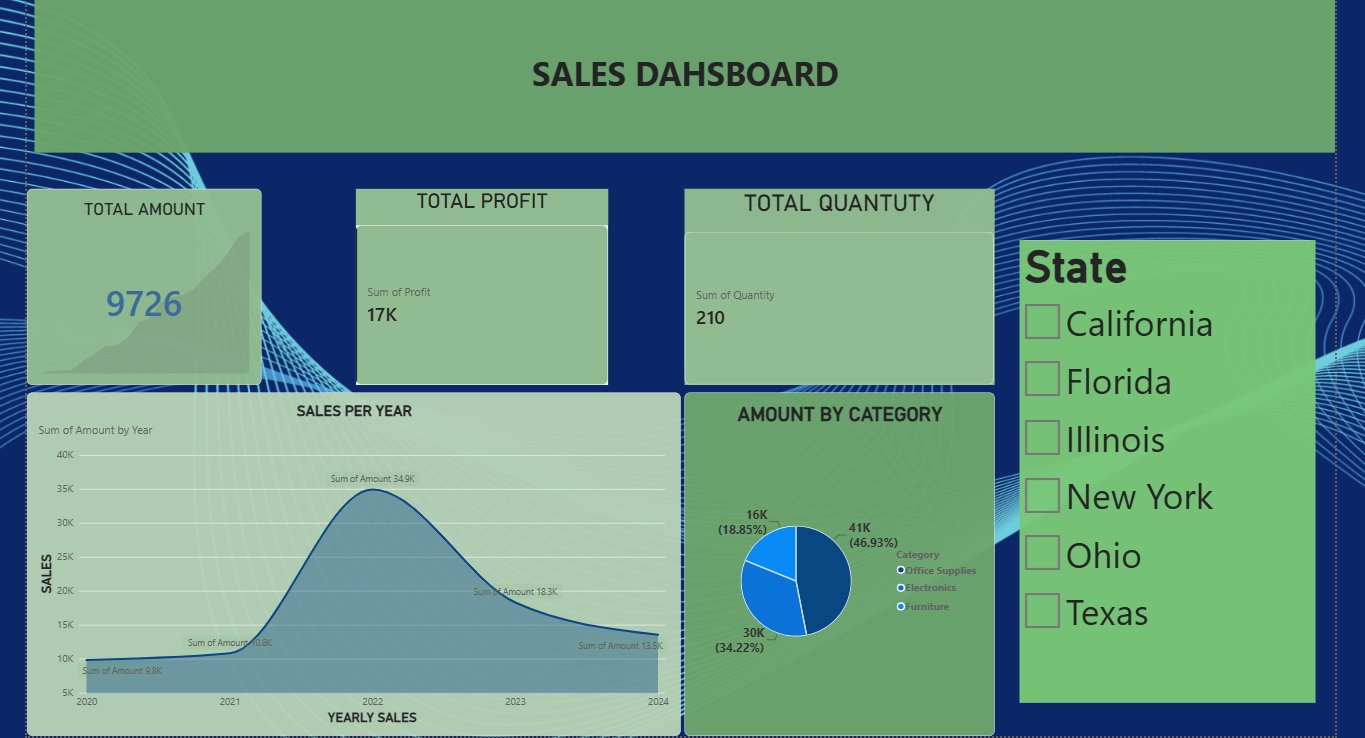

What the dashboard file says about the page in this screenshot:
{"tool":"powerbi","page":{"name":"Page 1","canvas":[1920,1080],"ordinal":0},"visuals":[{"type":"textbox","box":[10.3,0,1910.1,224.4],"z":0},{"type":"kpi","title":"TOTAL AMOUNT","fields":{"Indicator":["Sum(Sales Dataset.Amount)"],"TrendLine":["Sales Dataset.Amount"]},"box":[0,277.9,343.7,288.2],"z":1000},{"type":"cardVisual","title":"TOTAL PROFIT","fields":{"Data":["Sum(Sales Dataset.Profit)"]},"box":[481.6,277.9,370.5,288.2],"z":2000},{"type":"cardVisual","title":"TOTAL QUANTUTY","fields":{"Data":["Sum(Sales Dataset.Quantity)"]},"box":[965.4,277.9,454.9,288.2],"z":3000},{"type":"lineChart","title":"SALES PER YEAR","fields":{"Category":["Sales Dataset.Year-Month.Variation.Date Hierarchy.Year"],"Y":["Sum(Sales Dataset.Amount)"]},"box":[0,576.3,959.2,504.3],"z":4000},{"type":"pieChart","title":"AMOUNT BY CATEGORY","fields":{"Category":["Sales Dataset.Category"],"Y":["Sum(Sales Dataset.Amount)"]},"box":[965,576,455,504],"z":5000},{"type":"slicer","fields":{"Values":["Sales Dataset.State"]},"box":[1457.3,352,434.3,679.2],"z":6000}]}

Visuals, with their boxes in screenshot pixels (x1, y1, x2, y2):
textbox: x1=39, y1=0, x2=1329, y2=152
"TOTAL AMOUNT" kpi: x1=32, y1=188, x2=264, y2=382
"TOTAL PROFIT" cardVisual: x1=357, y1=188, x2=607, y2=382
"TOTAL QUANTUTY" cardVisual: x1=684, y1=188, x2=991, y2=382
"SALES PER YEAR" lineChart: x1=32, y1=389, x2=680, y2=730
"AMOUNT BY CATEGORY" pieChart: x1=684, y1=389, x2=991, y2=729
slicer - Sales Dataset.State: x1=1016, y1=238, x2=1309, y2=696
